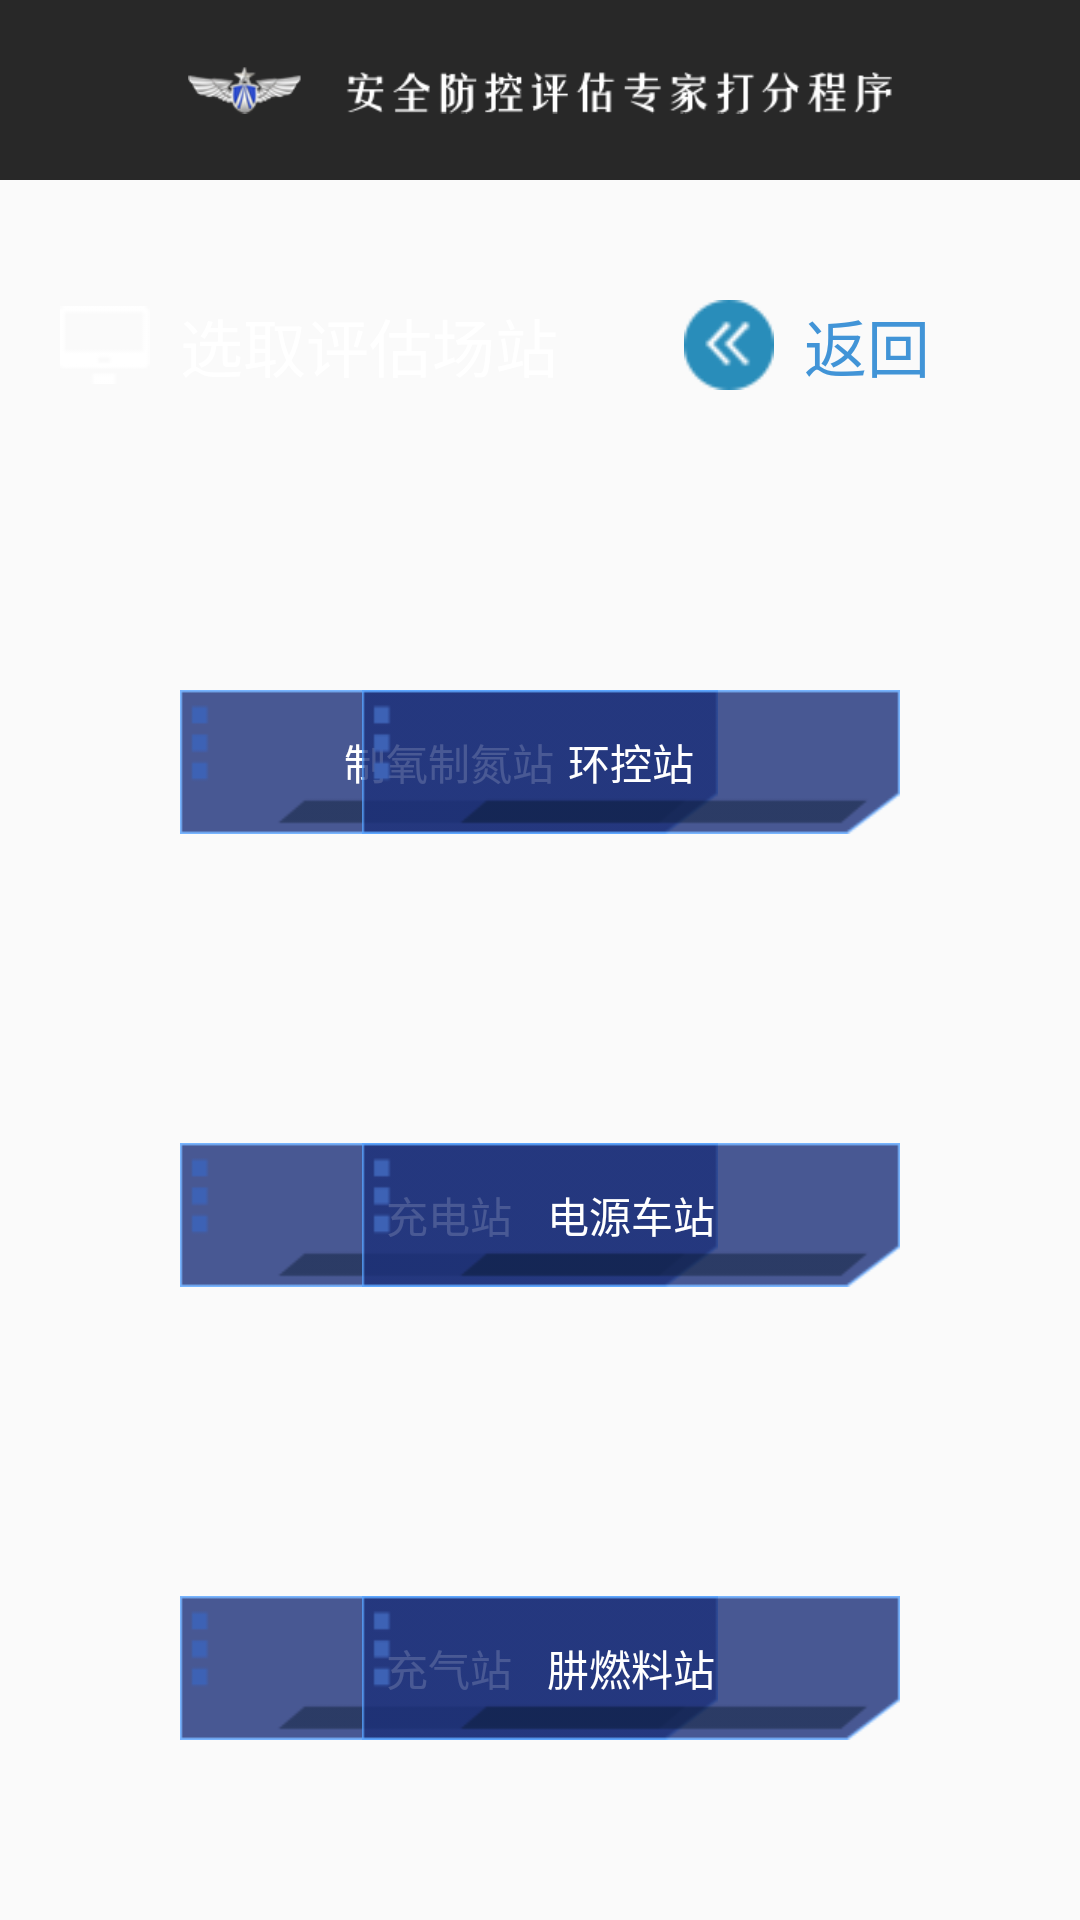

Named icons in this screenshot (1080 × 1920) and their centers, point (x, y):
back: point (729, 345)
